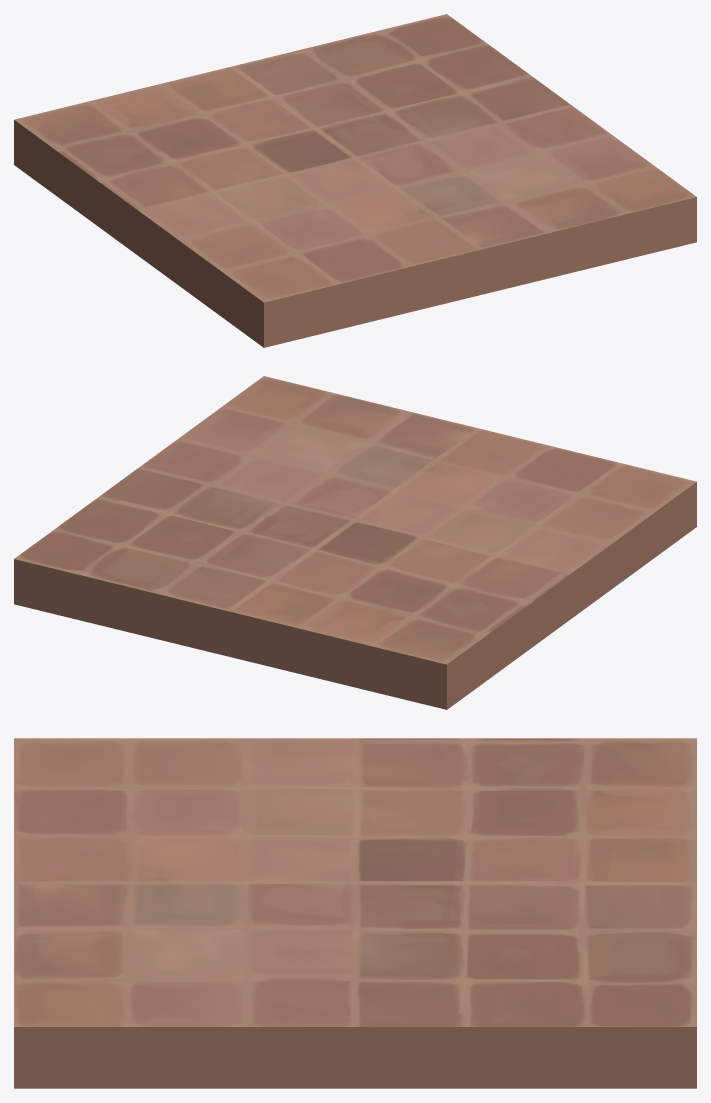
Rendered from SM_Floor_tiles.fbx.
3 views of the same model, one above another, from view 1: azimuth 30°, elevation 25°; view 2: azimuth 150°, elevation 25°; view 3: azimuth 270°, elevation 25° (orthographic). The views are drawn at different scales.
Visible parts, largest first — view 1: SM_Floor_tiles2; view 2: SM_Floor_tiles2; view 3: SM_Floor_tiles2.
Part boxes in pixels (bbox=[...]): SM_Floor_tiles2: bbox=[14, 14, 696, 347]; SM_Floor_tiles2: bbox=[14, 376, 696, 709]; SM_Floor_tiles2: bbox=[14, 738, 696, 1088].
Size of the model in its own units: 500 by 50 by 500.
1 material, 1 textured.
